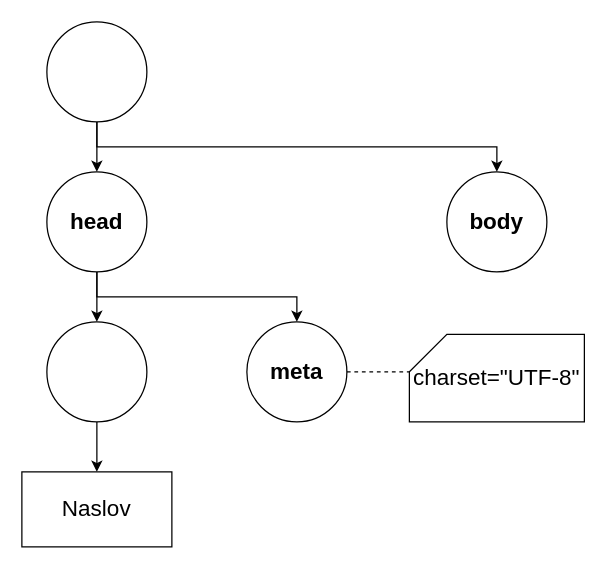
Image size: 606x569. Some labels were removed from this diagram. The shapes that lost their labels are listed below. From the top down, each one's centre as x and y in pixels, then its label:
At (x=96, y=71): "html".
At (x=96, y=371): "title".
